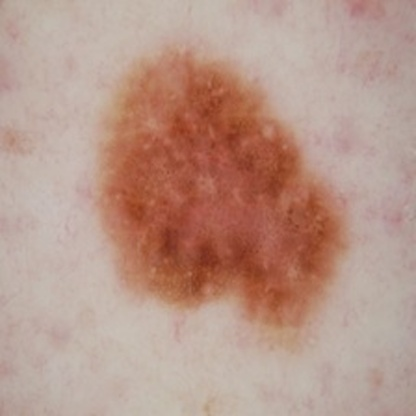malignant: (108, 74, 321, 302)
